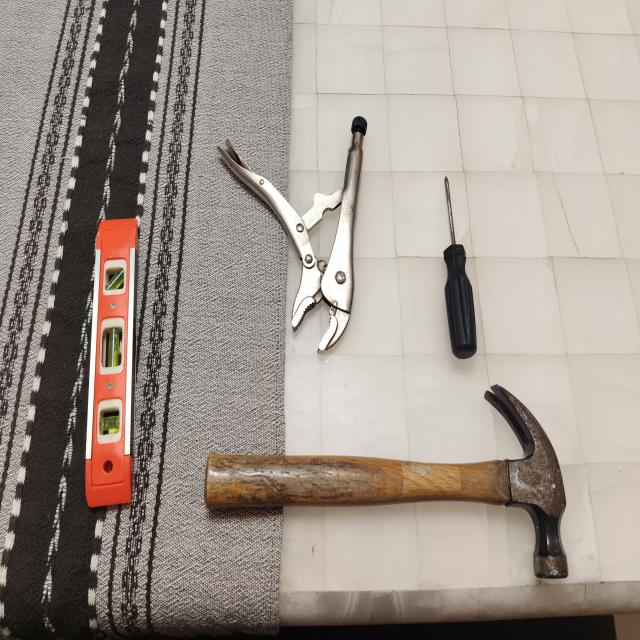Desarmador: (432, 158, 489, 372)
Martillo: (190, 377, 578, 596)
Nivel: (66, 185, 164, 538)
PinzasPresion: (200, 99, 410, 405)
